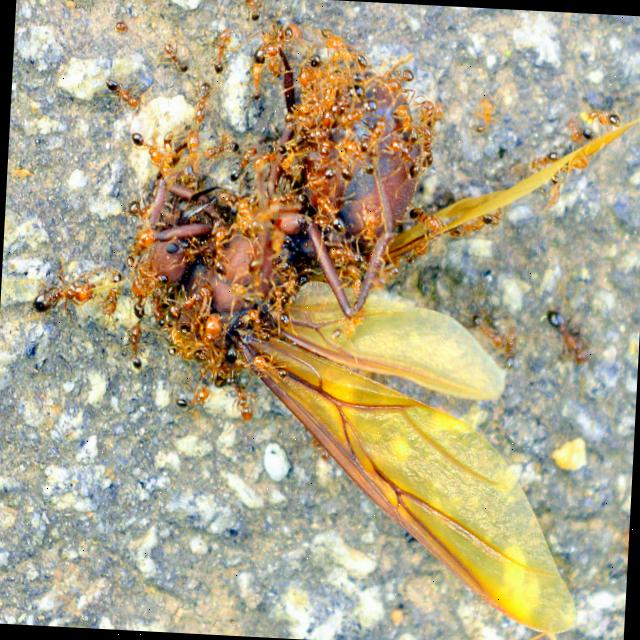Dead-Female-Alate: (121, 22, 640, 637)
